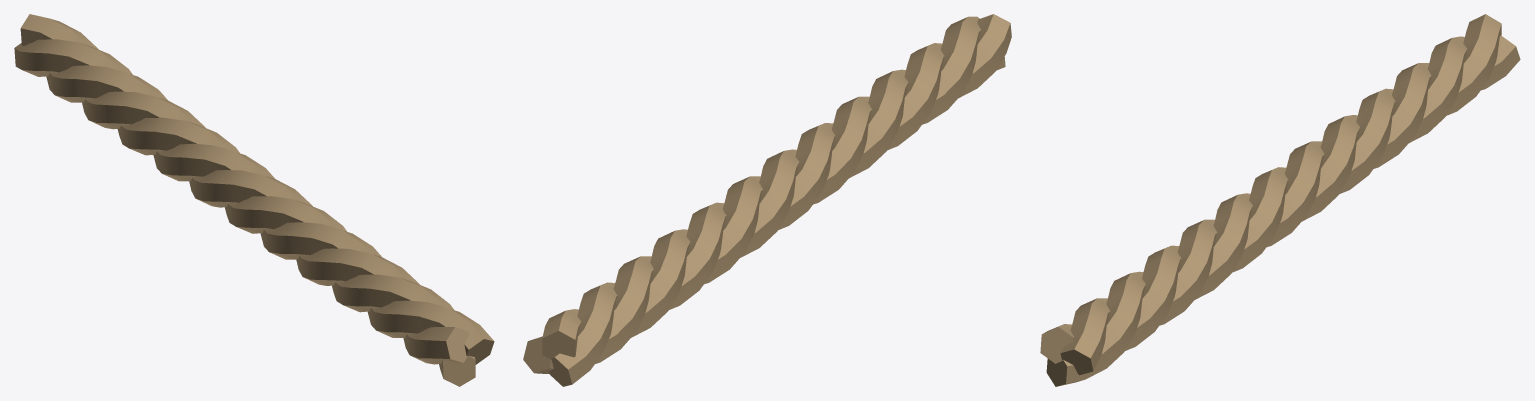
The model's file is grapple_tarn_line.glb.
The picture shows the model from 3 angles, left to right: view 1: azimuth 30°, elevation 25°; view 2: azimuth 150°, elevation 25°; view 3: azimuth 330°, elevation 25°; orthographic projection.
Visible parts, largest first — view 1: Line; view 2: Line; view 3: Line.
Part boxes in pixels (x1,y1,x2,y2): Line: [14, 14, 494, 386]; Line: [523, 14, 1011, 386]; Line: [1040, 14, 1520, 386].
Size of the model in its own units: 0.0745 by 0.0798 by 1.02.
